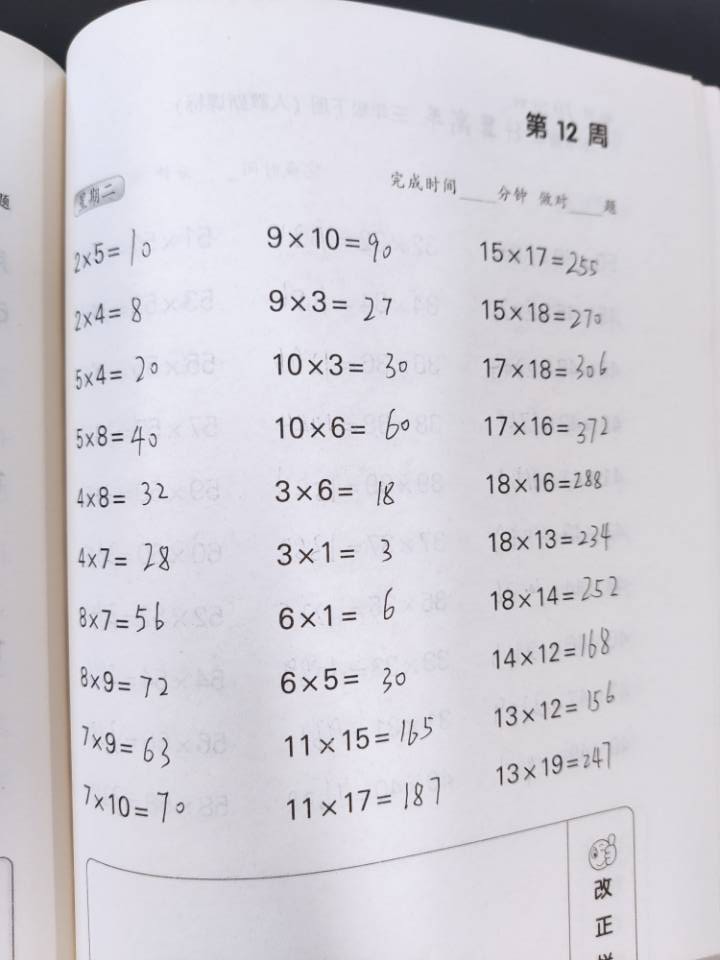equation: (579, 353, 633, 597), (155, 412, 202, 631), (531, 365, 574, 596), (297, 408, 342, 615), (434, 699, 486, 875), (485, 403, 530, 604), (549, 124, 598, 307), (468, 124, 513, 323), (346, 417, 391, 613), (509, 117, 554, 312), (484, 703, 537, 867), (430, 120, 470, 331), (438, 403, 481, 599), (388, 123, 430, 323), (391, 416, 436, 601), (256, 411, 295, 616), (214, 139, 254, 333), (301, 127, 338, 335), (178, 145, 215, 343), (260, 131, 296, 332), (388, 704, 430, 872), (346, 135, 381, 335), (536, 705, 580, 864), (255, 735, 304, 872), (164, 736, 211, 877), (582, 703, 622, 868), (352, 709, 388, 873), (212, 425, 243, 612), (308, 727, 347, 872), (214, 752, 256, 873)
